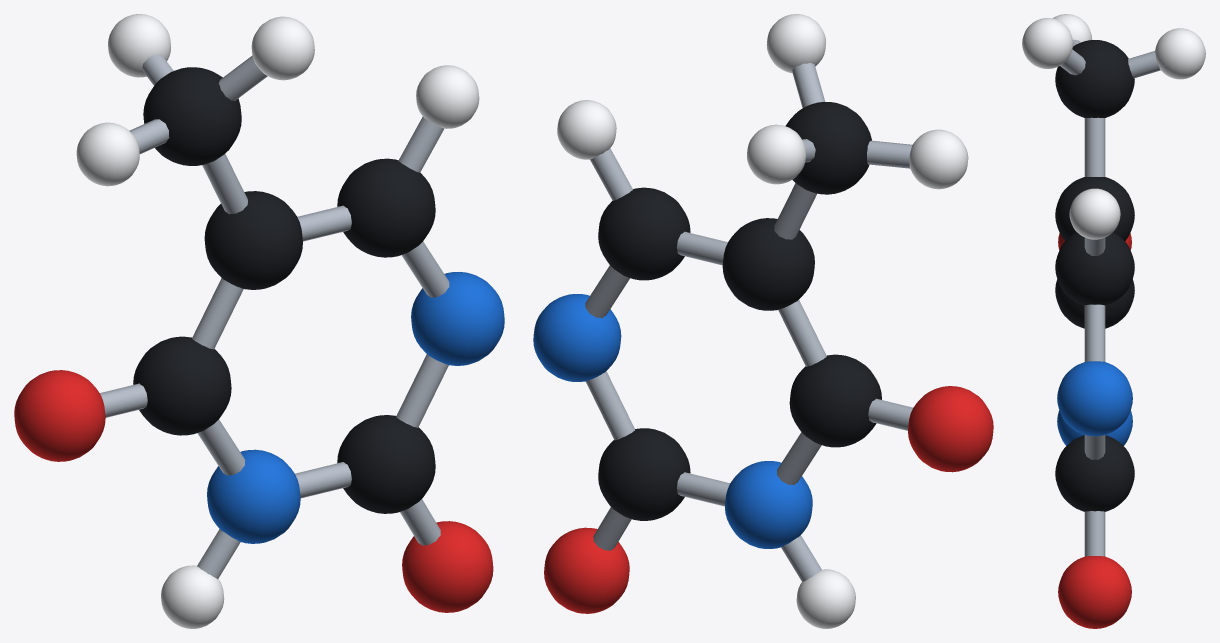
Rendered from timine.glb.
3 renders of one model, left to right at view 1: azimuth 30°, elevation 25°; view 2: azimuth 150°, elevation 25°; view 3: azimuth 270°, elevation 25°, orthographic. The views are drawn at different scales.
Parts seen in each view (by area): view 1: Baza_T; view 2: Baza_T; view 3: Baza_T.
Boxes of the visible parts, box(x1,y1,x2,y2) form: Baza_T: box(14, 14, 504, 628); Baza_T: box(533, 14, 993, 628); Baza_T: box(1022, 14, 1205, 628).
Size of the model in its own units: 1.64 by 2.16 by 0.679.
